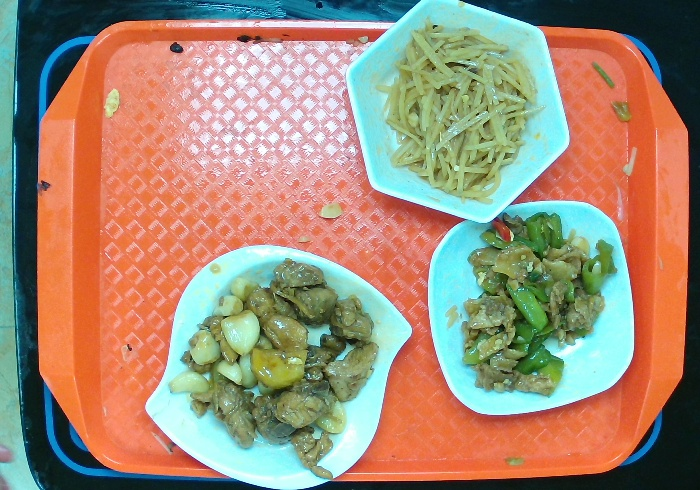RJxy-Liu_Jiao_Wan: (337, 4, 574, 224)
RJxy-Shuang_Jiao_Pan: (141, 242, 418, 490)
RJxy-Si_Fang_Wan: (423, 197, 644, 420)
